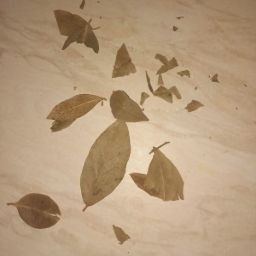Bay leaves: (11, 3, 232, 251), (71, 117, 134, 227), (128, 130, 192, 215), (35, 1, 112, 61), (139, 40, 191, 112), (30, 81, 107, 129), (2, 189, 69, 234), (187, 54, 234, 115), (101, 88, 155, 128), (102, 39, 142, 83), (101, 218, 136, 245), (162, 11, 192, 38)
